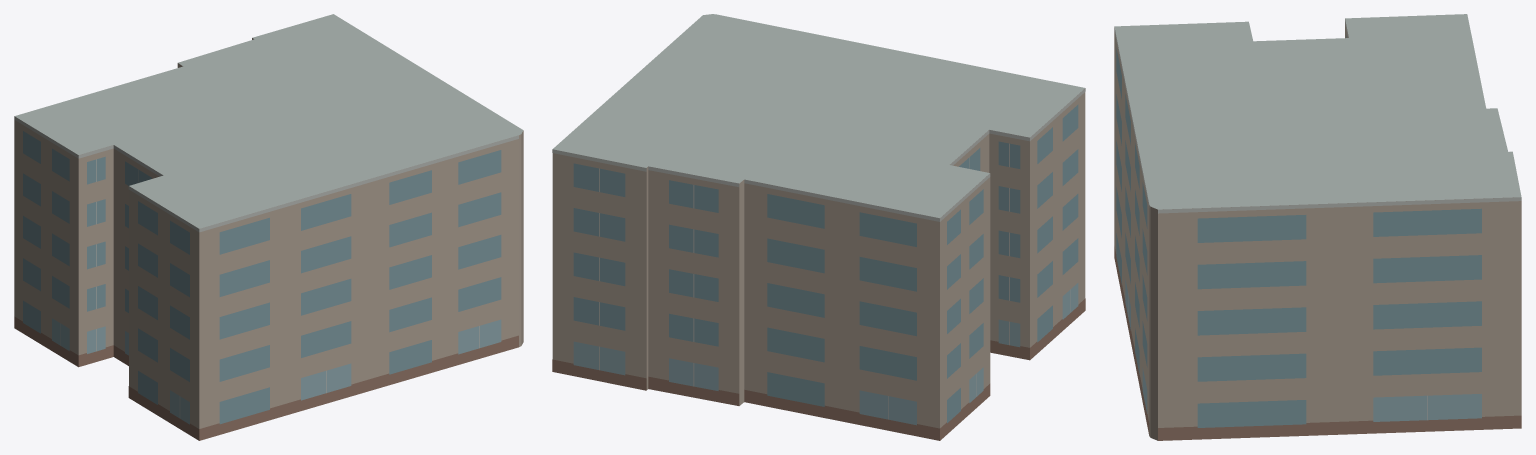
Rendered from survey-upis-32563224.glb.
The picture shows the model from 3 angles, left to right: view 1: azimuth 30°, elevation 25°; view 2: azimuth 150°, elevation 25°; view 3: azimuth 270°, elevation 25°; orthographic projection. The views are drawn at different scales.
Parts seen in each view (by area): view 1: survey-upis-32563224.tmp; view 2: survey-upis-32563224.tmp; view 3: survey-upis-32563224.tmp.
Part boxes in pixels (box(x1,y1,x2,y2)): survey-upis-32563224.tmp: box(14, 14, 523, 440); survey-upis-32563224.tmp: box(552, 14, 1085, 440); survey-upis-32563224.tmp: box(1114, 14, 1521, 440).
Bounding box in the file's own units: 26.31 × 14.5 × 23.14.
